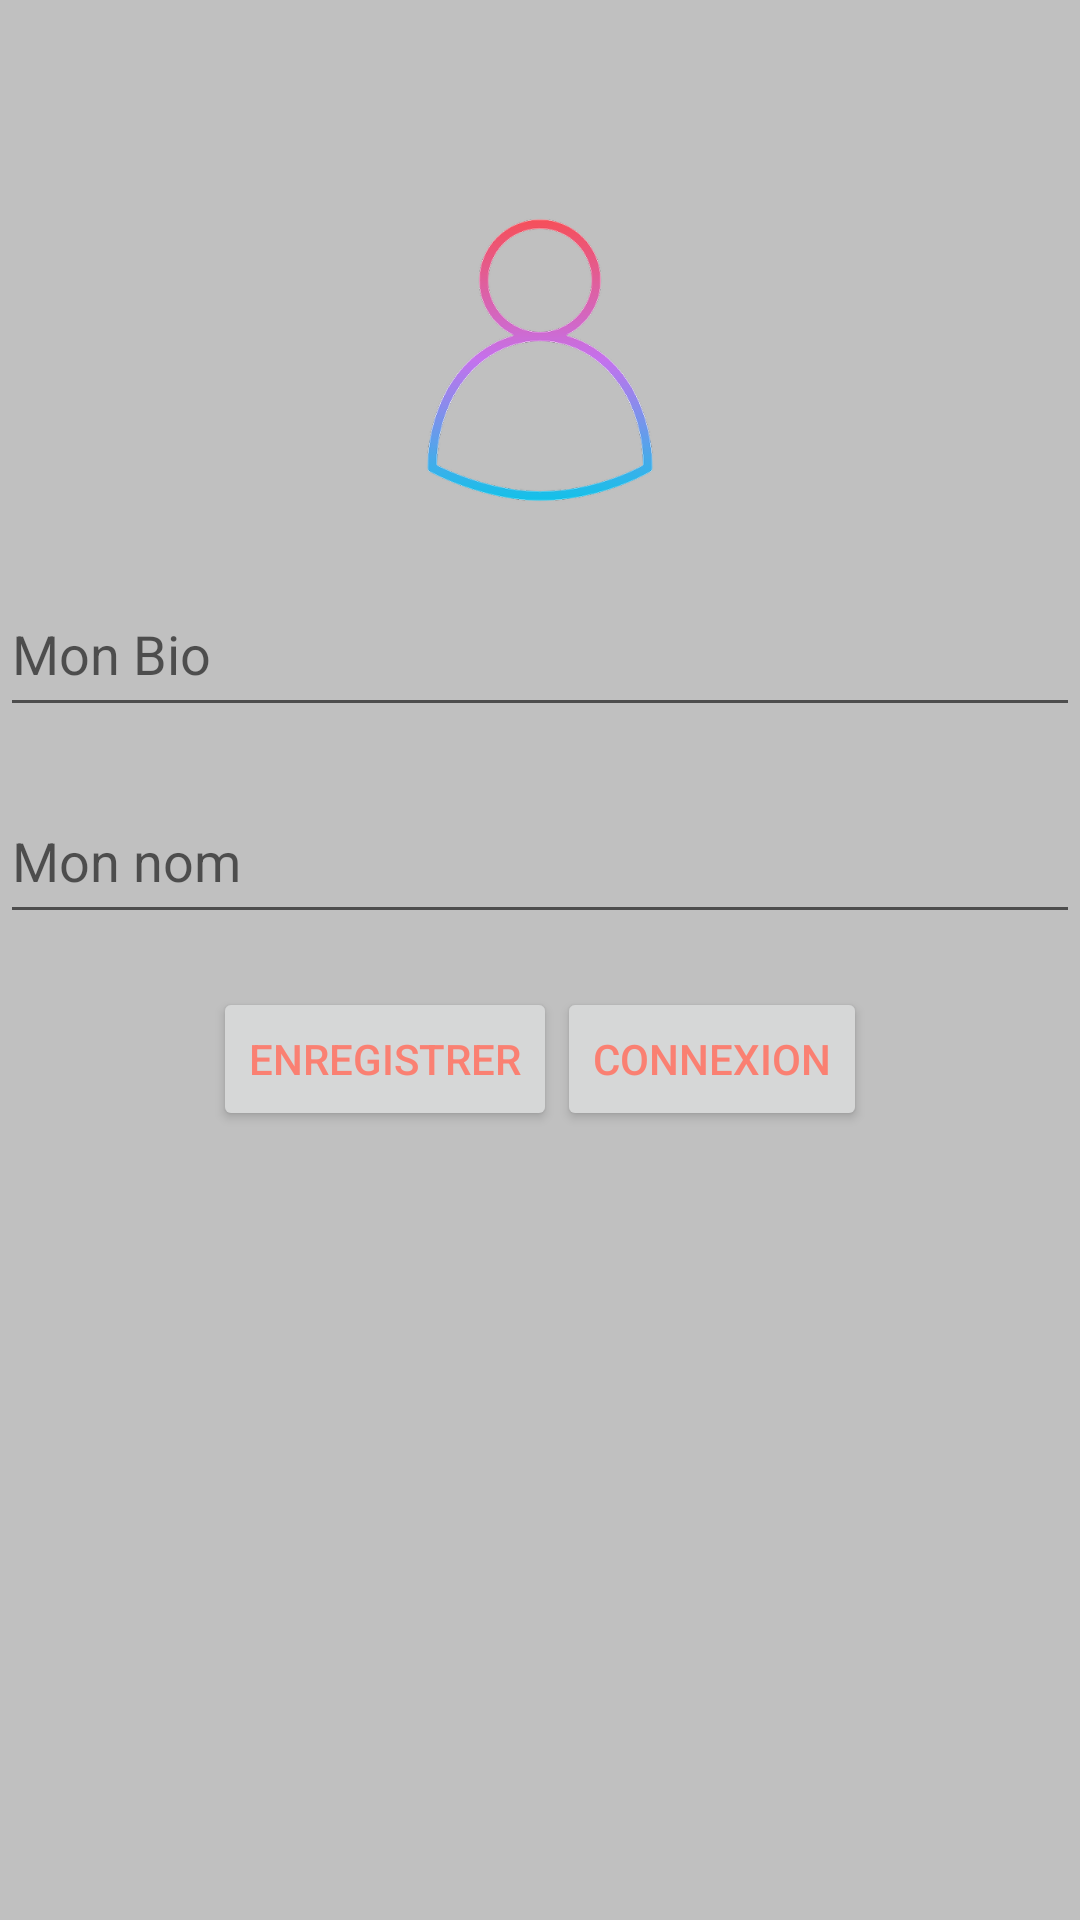

Icons on this 1080*1920 Android screen, each with its box as [x1,y1,x2,y2]:
person: [427,219,653,501]
